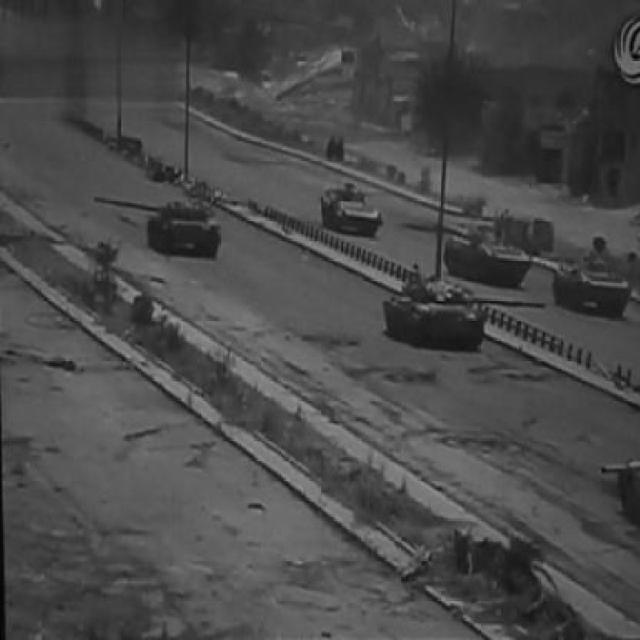Tank: (377, 275, 554, 362), (88, 183, 229, 268), (409, 212, 547, 293), (547, 220, 640, 337), (311, 172, 396, 250), (596, 439, 640, 535)
